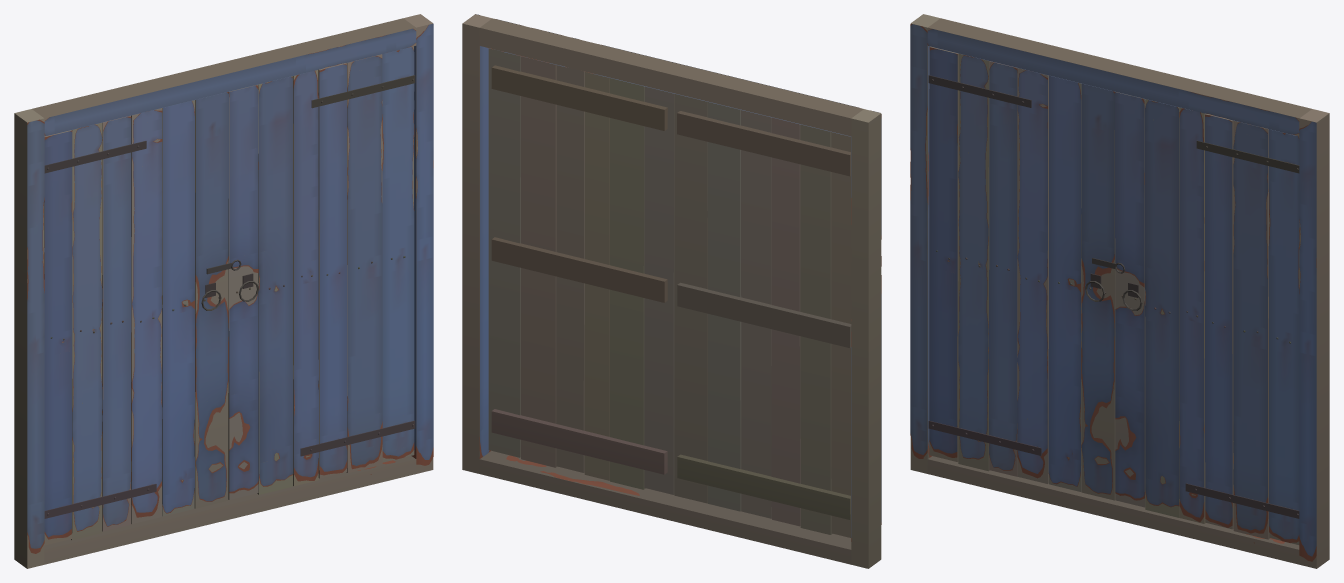
Rendered from painted_wood_panel.glb.
The picture shows the model from 3 angles, left to right: view 1: azimuth 30°, elevation 25°; view 2: azimuth 150°, elevation 25°; view 3: azimuth 330°, elevation 25°; orthographic projection.
Visible parts, largest first — view 1: hb_main, hb_wood; view 2: hb_wood, hb_main; view 3: hb_main, hb_wood.
Boxes of the visible parts, box(x1,y1,x2,y2) form: hb_main: box(27, 23, 433, 553); hb_wood: box(14, 14, 433, 568); hb_wood: box(462, 14, 881, 568); hb_main: box(475, 14, 881, 541); hb_main: box(910, 23, 1316, 561); hb_wood: box(910, 14, 1329, 568).
Size of the model in its own units: 2 by 2.1 by 0.113.
